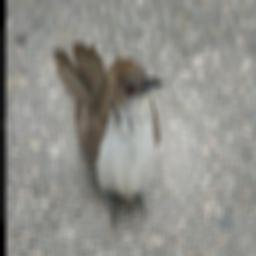Cuckoo: (53, 40, 164, 228)
